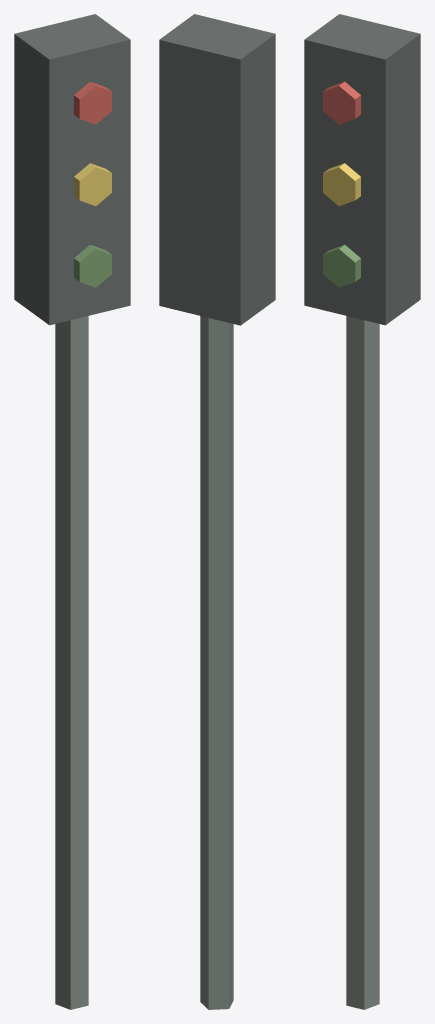
Rendered from traffic-signals-lod1.glb.
3 views of the same model, side by side, from view 1: azimuth 30°, elevation 25°; view 2: azimuth 150°, elevation 25°; view 3: azimuth 330°, elevation 25° (orthographic).
Visible parts, largest first — view 1: signal_box, post, lamp_0, lamp_2, lamp_1; view 2: signal_box, post; view 3: signal_box, post, lamp_0, lamp_2, lamp_1.
Part boxes in pixels (x1=…): signal_box: x1=14, y1=14, x2=130, y2=325; post: x1=55, y1=316, x2=88, y2=1009; lamp_0: x1=74, y1=81, x2=111, y2=124; lamp_2: x1=74, y1=244, x2=111, y2=287; lamp_1: x1=74, y1=163, x2=111, y2=206; signal_box: x1=159, y1=14, x2=275, y2=325; post: x1=200, y1=316, x2=233, y2=1009; signal_box: x1=304, y1=14, x2=420, y2=325; post: x1=346, y1=316, x2=379, y2=1009; lamp_0: x1=323, y1=81, x2=360, y2=124; lamp_2: x1=323, y1=244, x2=360, y2=287; lamp_1: x1=323, y1=163, x2=360, y2=206.
Size of the model in its own units: 0.24 by 2.72 by 0.21.
